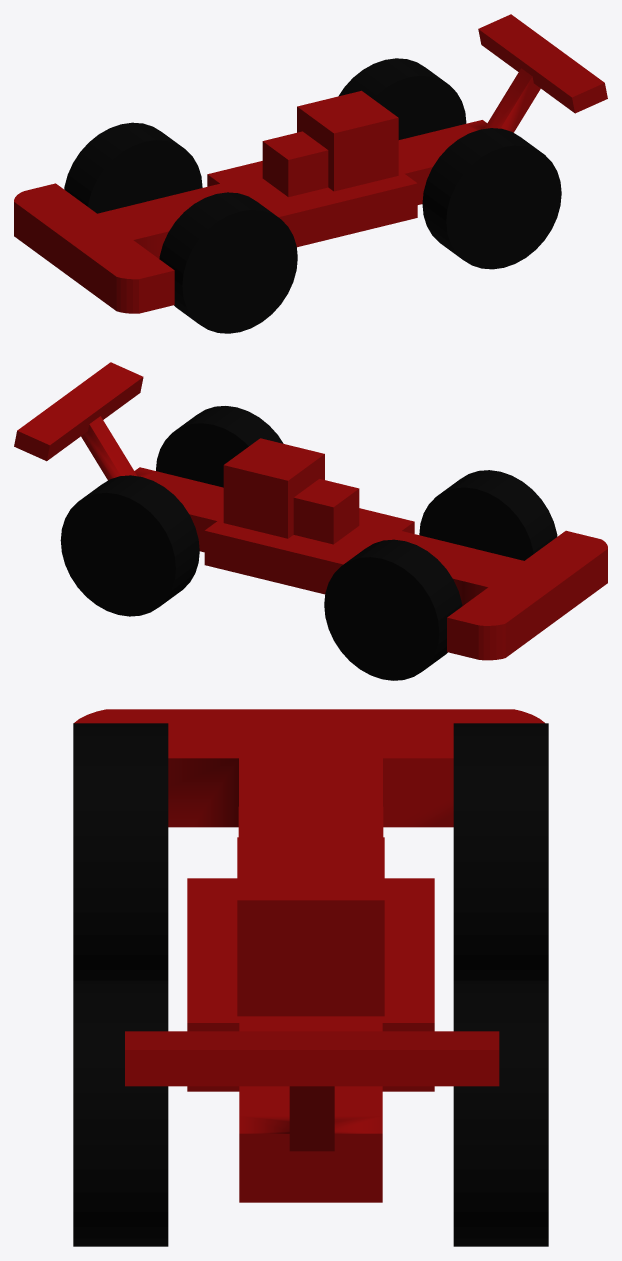
File: car.obj
3 renders of one model, top to bottom at view 1: azimuth 30°, elevation 25°; view 2: azimuth 150°, elevation 25°; view 3: azimuth 270°, elevation 25°, orthographic. The views are drawn at different scales.
Parts seen in each view (by area): view 1: Cube.002_Cube.005, Cylinder.003, Cube.003_Cube.006, Cylinder.001, Cube.001, Cylinder, Cylinder.002; view 2: Cube.002_Cube.005, Cylinder.002, Cube.003_Cube.006, Cylinder, Cube.001, Cylinder.001, Cylinder.003; view 3: Cube.002_Cube.005, Cube.001, Cube.003_Cube.006, Cylinder, Cylinder.001, Cylinder.003, Cylinder.002.
Boxes of the visible parts, bbox=[...] form: Cube.002_Cube.005: bbox=[207, 90, 417, 247]; Cylinder.003: bbox=[422, 128, 561, 269]; Cube.003_Cube.006: bbox=[14, 183, 231, 313]; Cylinder.001: bbox=[159, 192, 297, 333]; Cube.001: bbox=[398, 14, 607, 204]; Cylinder: bbox=[64, 122, 202, 213]; Cylinder.002: bbox=[338, 58, 466, 139]; Cube.002_Cube.005: bbox=[204, 438, 414, 594]; Cylinder.002: bbox=[60, 475, 199, 616]; Cube.003_Cube.006: bbox=[390, 530, 607, 660]; Cylinder: bbox=[324, 539, 462, 680]; Cube.001: bbox=[14, 362, 223, 552]; Cylinder.001: bbox=[419, 470, 557, 560]; Cylinder.003: bbox=[156, 406, 283, 487]; Cube.002_Cube.005: bbox=[187, 837, 434, 1091]; Cube.001: bbox=[125, 1023, 499, 1202]; Cube.003_Cube.006: bbox=[74, 709, 544, 837]; Cylinder: bbox=[453, 723, 548, 980]; Cylinder.001: bbox=[73, 723, 168, 980]; Cylinder.003: bbox=[73, 980, 168, 1246]; Cylinder.002: bbox=[453, 980, 548, 1246].
Size of the model in its own units: 0.6018 by 0.1713 by 0.25.
